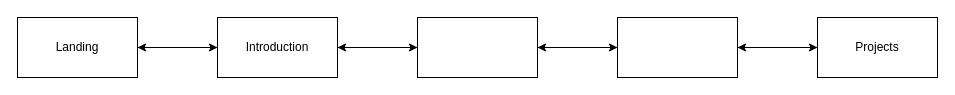
Some shapes in this 955 by 95 pixel diagram are drawn without their labels. Each missing label, with the centre of its shape:
"Skills" belongs at pixel 477 47.
"Tools" belongs at pixel 677 47.
